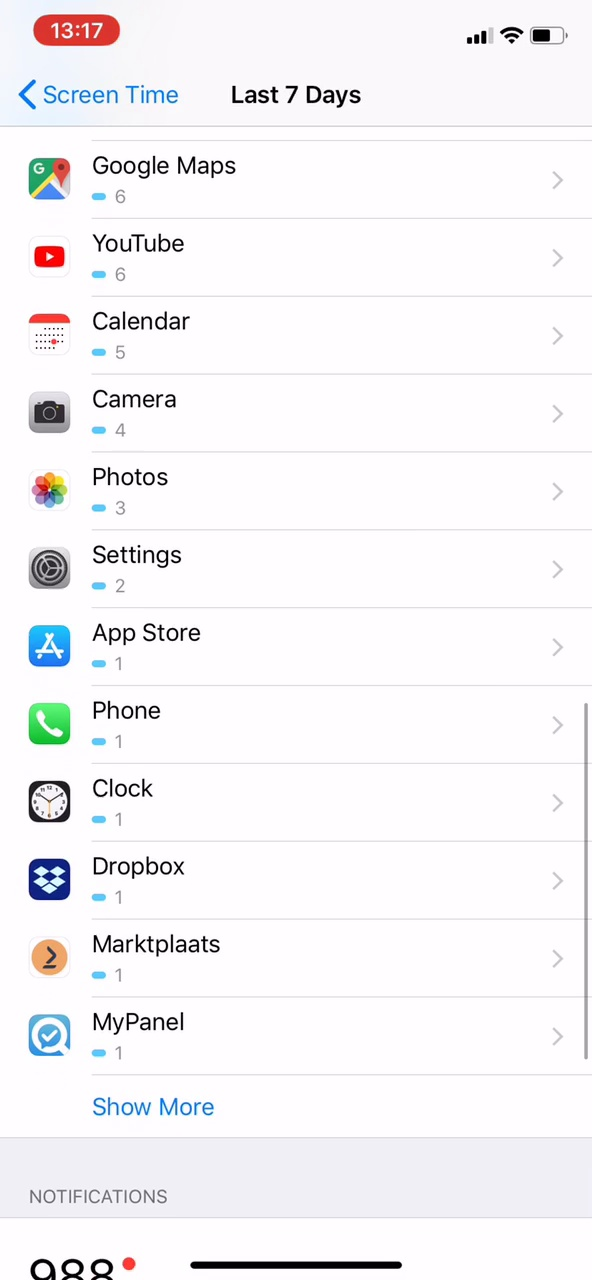pick_app: (14, 221, 276, 297), (12, 300, 268, 374), (15, 147, 265, 219), (15, 849, 248, 922), (15, 774, 245, 847), (6, 372, 234, 444), (17, 447, 218, 528), (18, 613, 232, 689), (23, 999, 245, 1072), (17, 530, 223, 608), (18, 696, 240, 767), (15, 927, 248, 992)
week: (219, 77, 366, 111)
